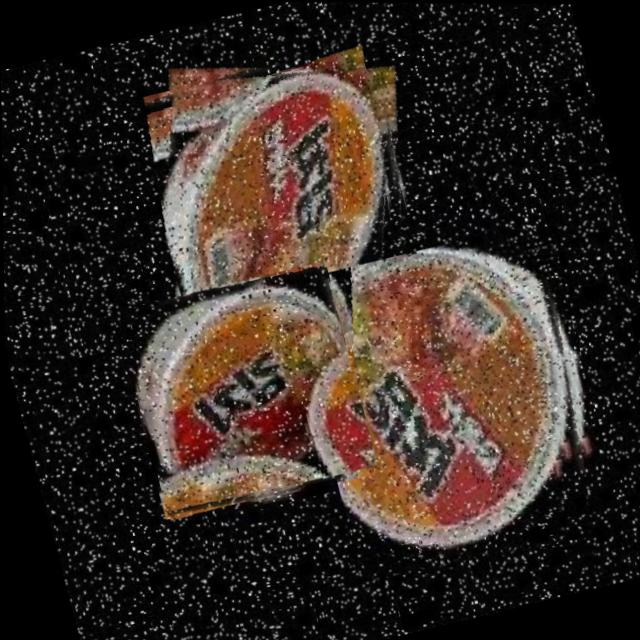Miscellaneous: (282, 218, 620, 592), (124, 26, 444, 366), (112, 259, 380, 526)
